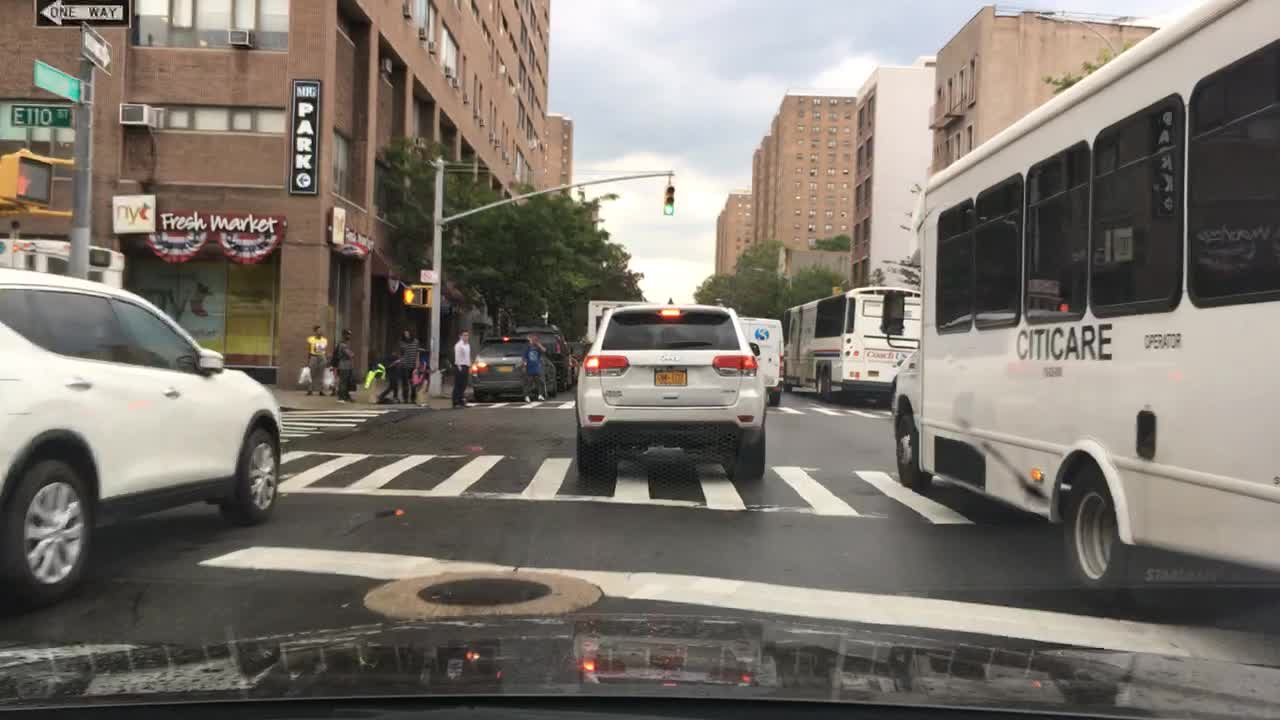bus: (889, 0, 1278, 603), (781, 284, 923, 404), (0, 238, 124, 291)
car: (0, 265, 280, 613), (573, 297, 769, 486), (470, 334, 557, 407), (507, 322, 575, 393), (733, 317, 785, 405), (567, 345, 583, 374)
person: (300, 323, 331, 399), (331, 326, 359, 406), (518, 332, 549, 404), (396, 325, 422, 405), (450, 326, 473, 410), (378, 350, 404, 403)
traffic light: (2, 154, 57, 210), (403, 285, 431, 307), (662, 185, 677, 214), (831, 284, 845, 295)
traffic sign: (33, 0, 133, 28), (35, 60, 77, 100), (80, 24, 112, 76), (10, 104, 75, 126), (418, 270, 438, 281)
truck: (586, 299, 648, 352)
